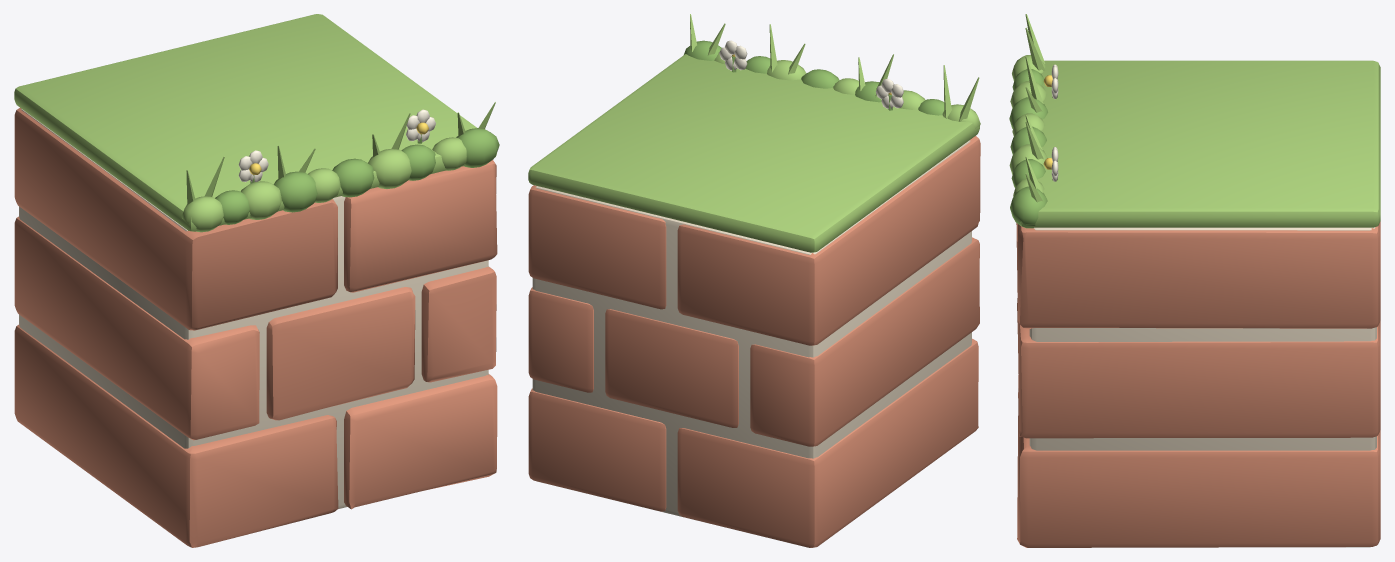
The model's file is brick.glb.
The picture shows the model from 3 angles, left to right: view 1: azimuth 30°, elevation 25°; view 2: azimuth 150°, elevation 25°; view 3: azimuth 270°, elevation 25°; orthographic projection. The views are drawn at different scales.
Parts seen in each view (by area): view 1: brick, brick_top; view 2: brick, brick_top; view 3: brick, brick_top.
Part boxes in pixels (x1=…): brick: x1=14, y1=108, x2=497, y2=547; brick_top: x1=14, y1=14, x2=499, y2=232; brick: x1=528, y1=136, x2=980, y2=547; brick_top: x1=528, y1=14, x2=980, y2=252; brick: x1=1016, y1=221, x2=1380, y2=547; brick_top: x1=1009, y1=14, x2=1380, y2=228.
Size of the model in its own units: 0.5042 by 0.594 by 0.5133.
